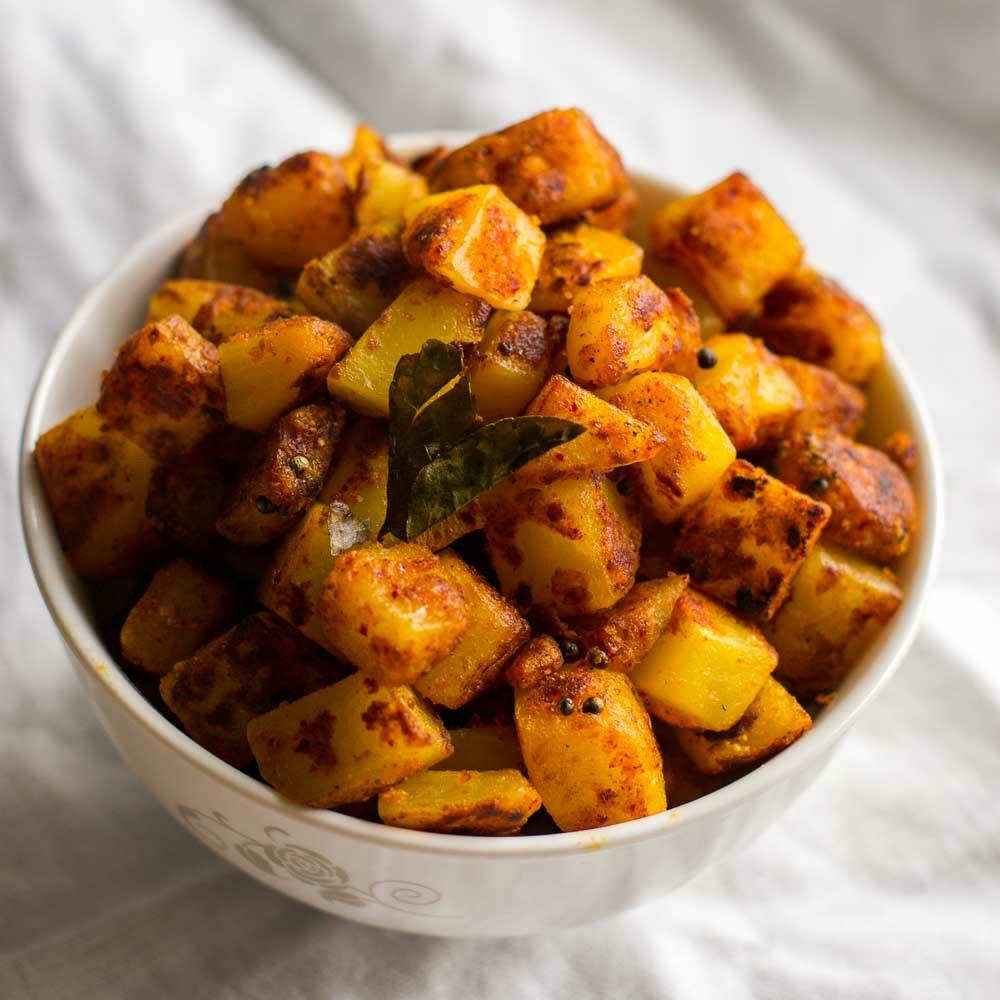AlooMasala: (30, 106, 916, 840)
